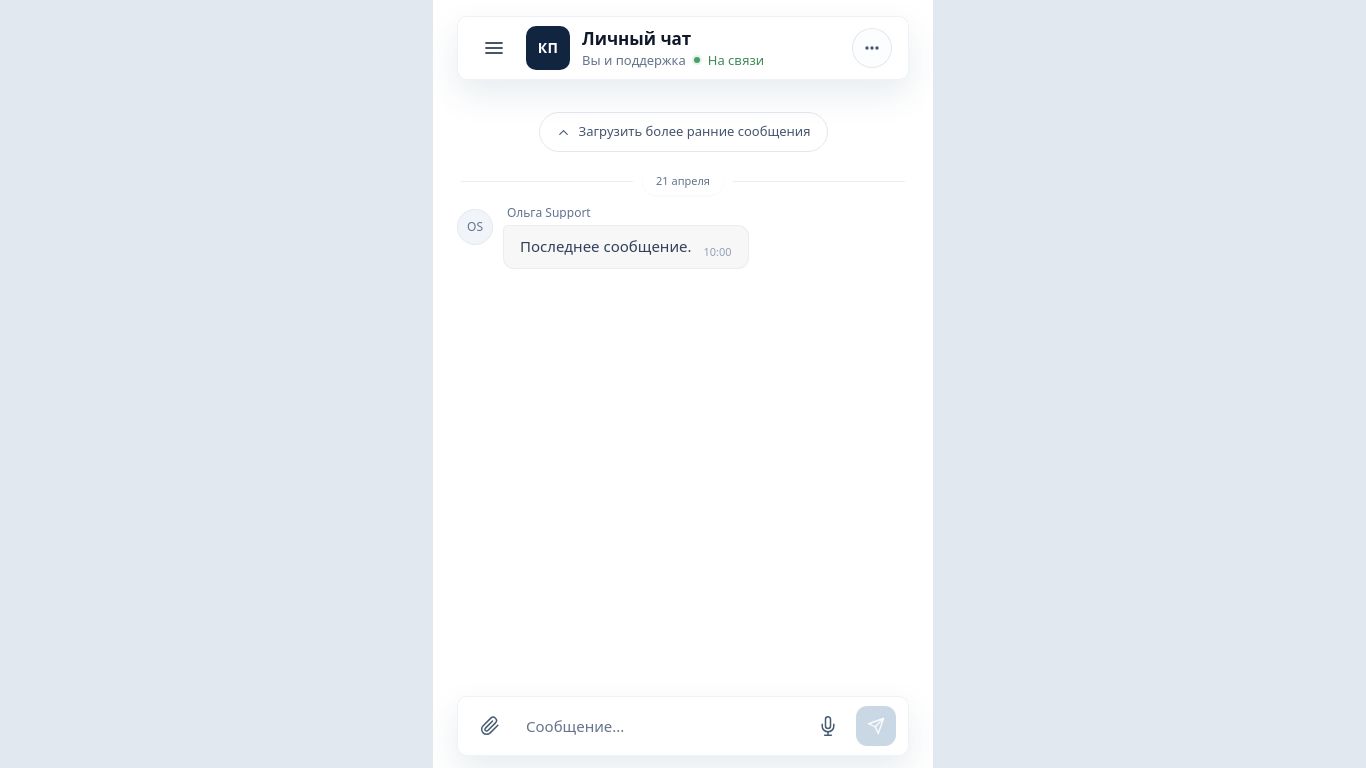
Test: ChatPage history loading › loads older messages through the bounded history cursor
This screenshot has width=1366, height=768.
Step 1. Click the button "Загрузить более ранние сообщения" → (683, 132), box [538,112,828,152]
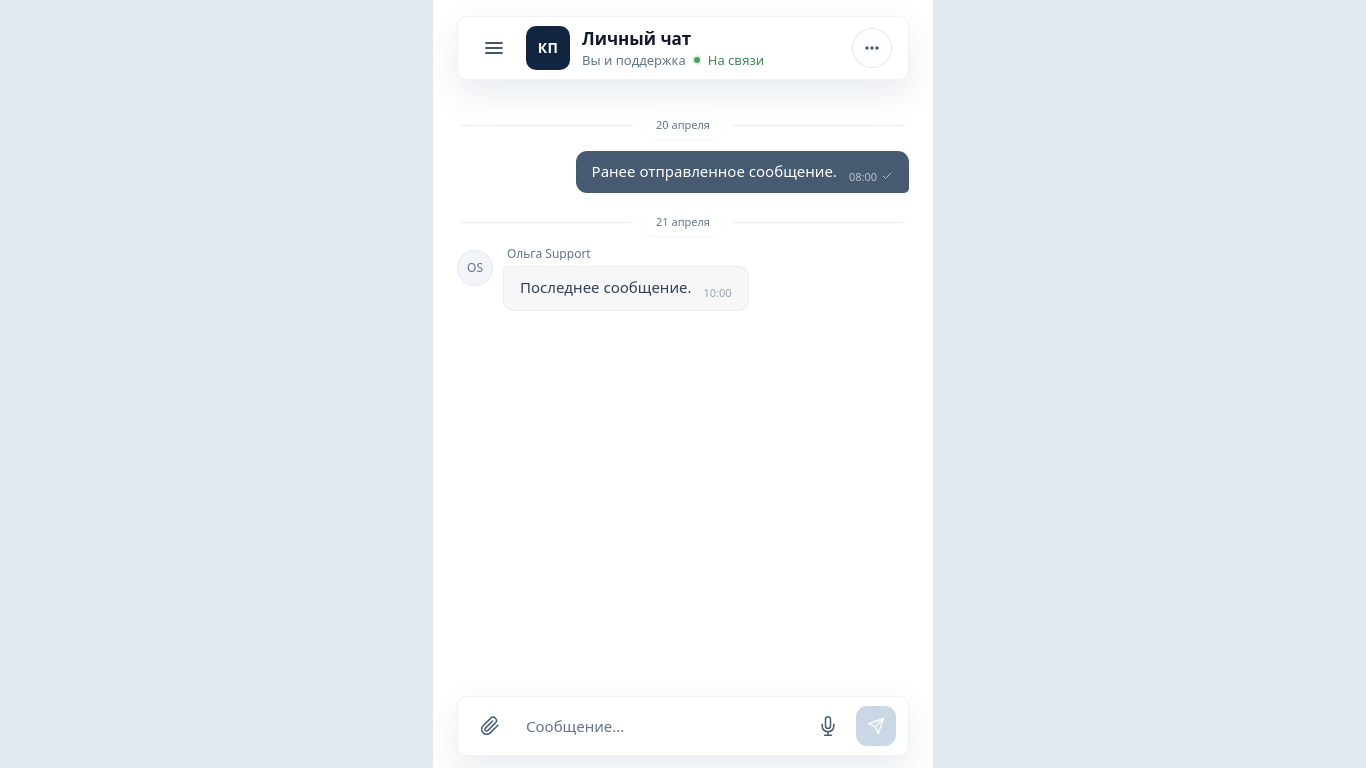
Expected: the text "Последнее сообщение." is shown, [520,277,692,297]
Expected: the text "Ранее отправленное сообщение." is shown, [592,160,837,180]
